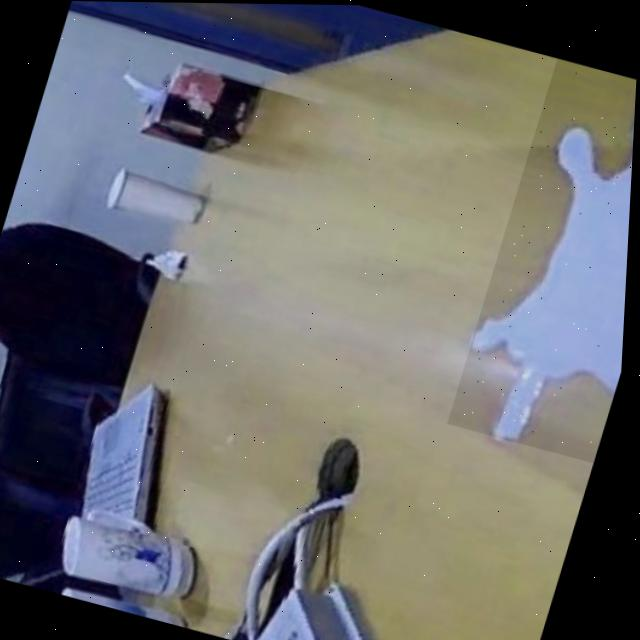spillage: (475, 123, 634, 437)
